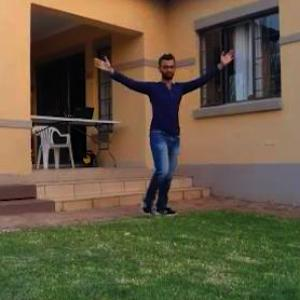takeoff: (92, 42, 236, 223)
